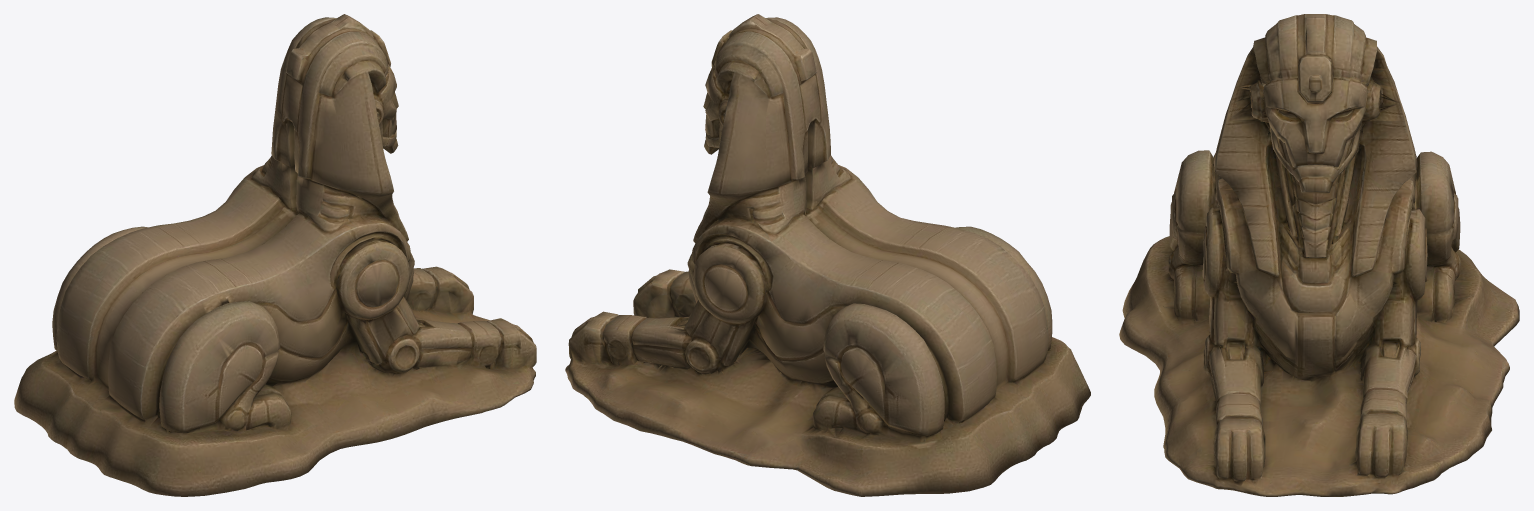
Rendered from sphinxStatue.glb.
3 renders of one model, left to right at view 1: azimuth 30°, elevation 25°; view 2: azimuth 150°, elevation 25°; view 3: azimuth 270°, elevation 25°, orthographic. The views are drawn at different scales.
Visible parts, largest first — view 1: tripo_node_151c670d-def4-4296-80ac-02cbcbd2c03f; view 2: tripo_node_151c670d-def4-4296-80ac-02cbcbd2c03f; view 3: tripo_node_151c670d-def4-4296-80ac-02cbcbd2c03f.
Part boxes in pixels (left/top/right/bottom): tripo_node_151c670d-def4-4296-80ac-02cbcbd2c03f: left=14, top=14, right=536, bottom=496; tripo_node_151c670d-def4-4296-80ac-02cbcbd2c03f: left=565, top=14, right=1090, bottom=496; tripo_node_151c670d-def4-4296-80ac-02cbcbd2c03f: left=1119, top=14, right=1519, bottom=496.
Bounding box in the file's own units: 0.998 × 0.7755 × 0.7129.
Materials: 1 (1 with a texture image).
